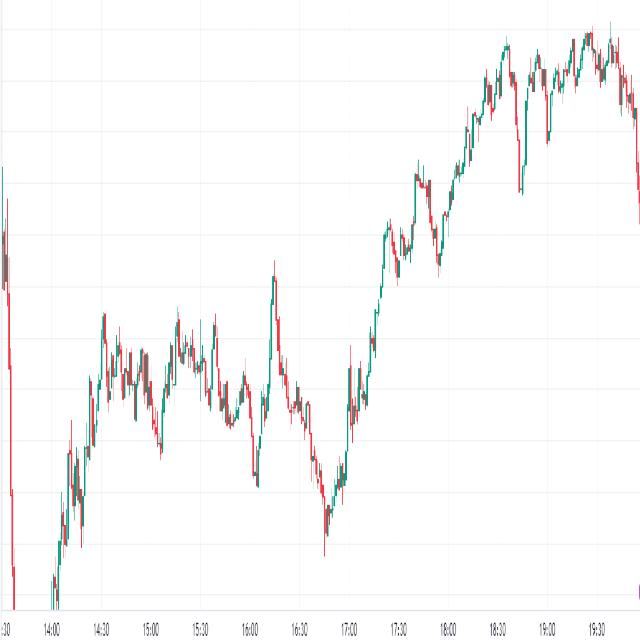Ascending-Triangle: (505, 22, 640, 247)
Rising-Wedge: (227, 24, 516, 638)
